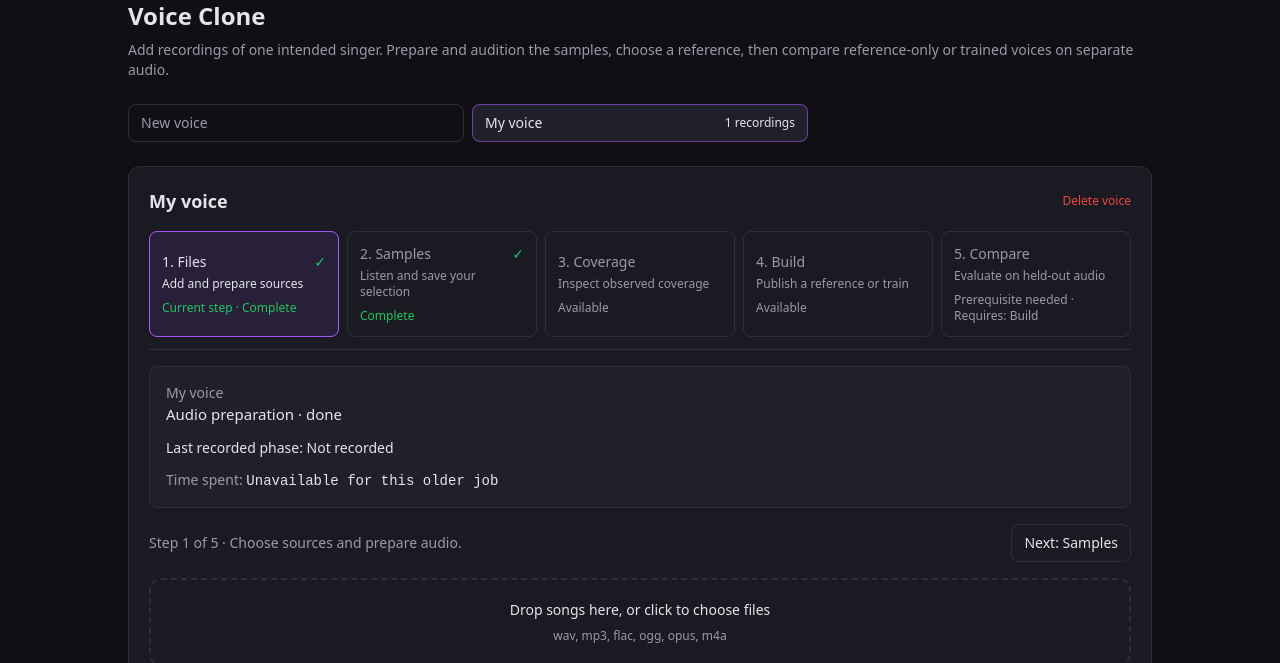
hydrates completed preparation selections when the queued revision stays the same
Click the tab "2. Samples ✓ Listen and save your selection Complete": (442, 284) top-left (347, 231), bottom-right (537, 337)
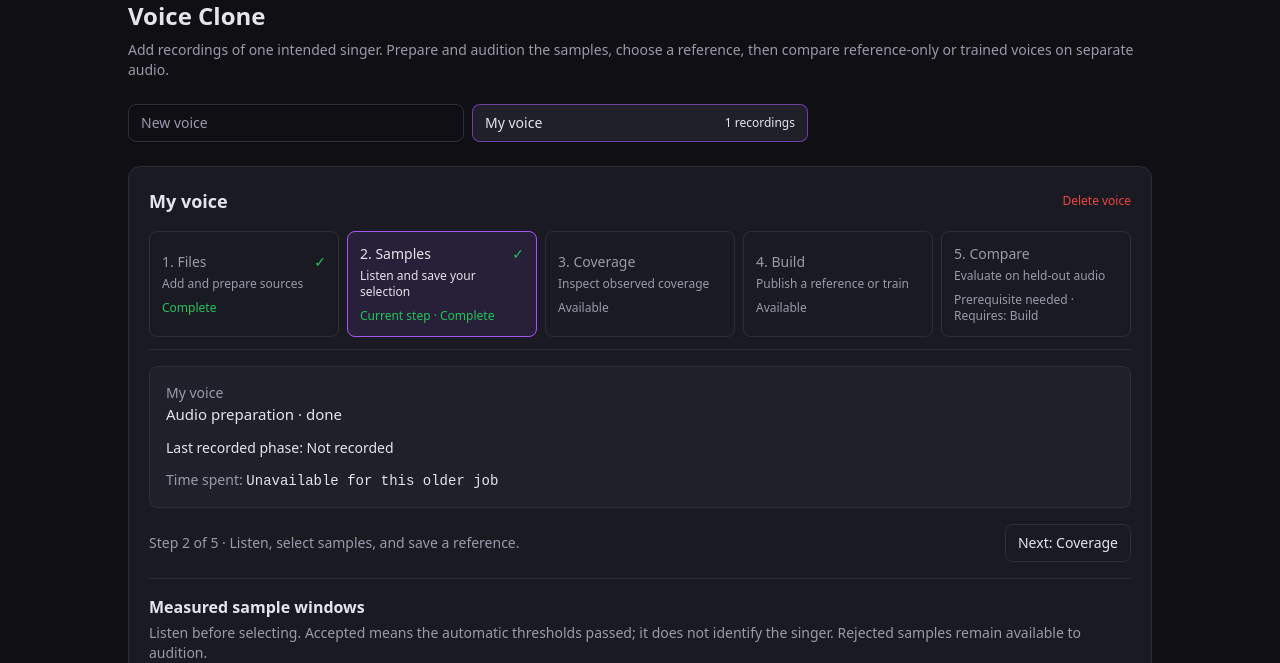
Click the tab "4. Build Publish a reference or train Available": (838, 284) top-left (743, 231), bottom-right (933, 337)
(page scrolled)
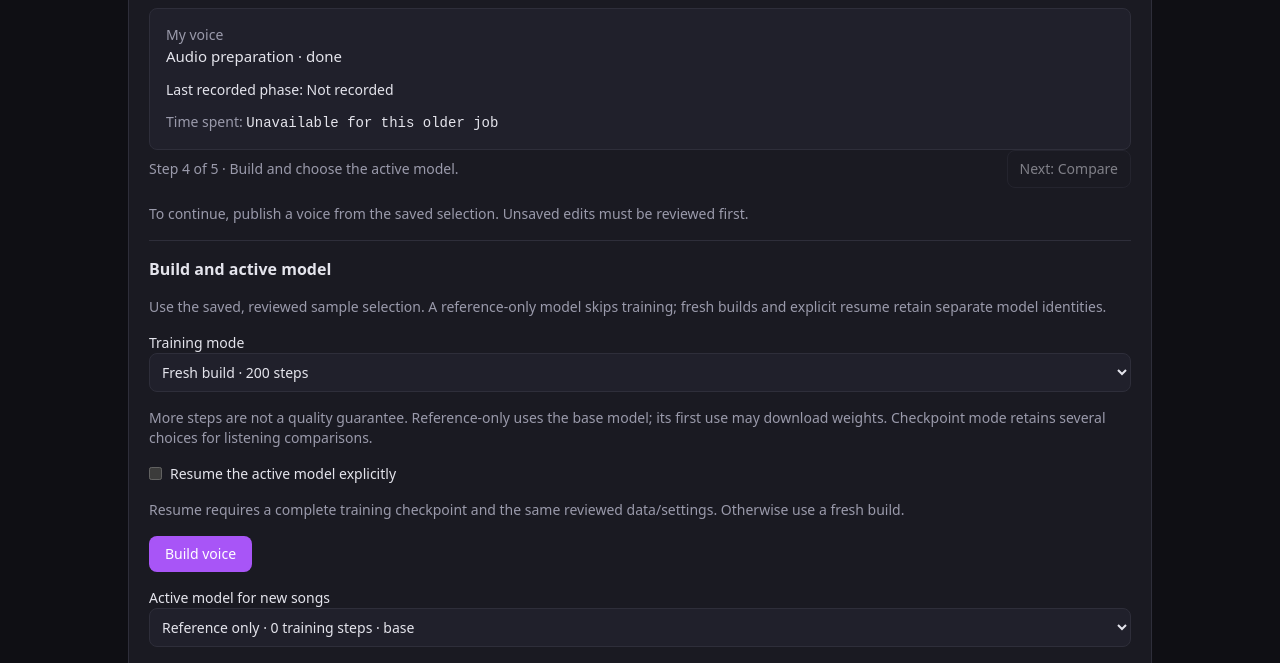
Result: the button "Build voice" is enabled at top-left (149, 536), bottom-right (252, 572)
